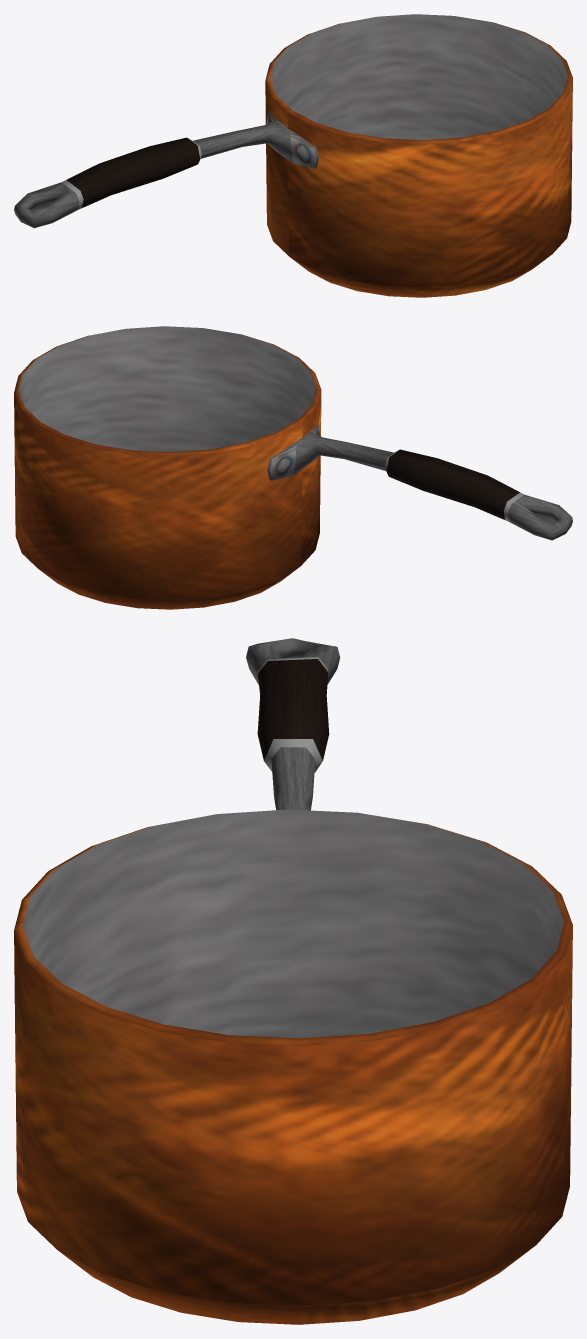
The model's file is SaucePan.fbx.
The picture shows the model from 3 angles, top to bottom: view 1: azimuth 30°, elevation 25°; view 2: azimuth 150°, elevation 25°; view 3: azimuth 270°, elevation 25°; orthographic projection. The views are drawn at different scales.
Parts seen in each view (by area): view 1: SaucePan_LOD0; view 2: SaucePan_LOD0; view 3: SaucePan_LOD0.
Boxes of the visible parts, bbox=[...] form: SaucePan_LOD0: bbox=[14, 14, 572, 297]; SaucePan_LOD0: bbox=[14, 326, 572, 609]; SaucePan_LOD0: bbox=[14, 638, 572, 1324].
Size of what is drawn, in the model's own units: 145 by 43.22 by 72.57.
